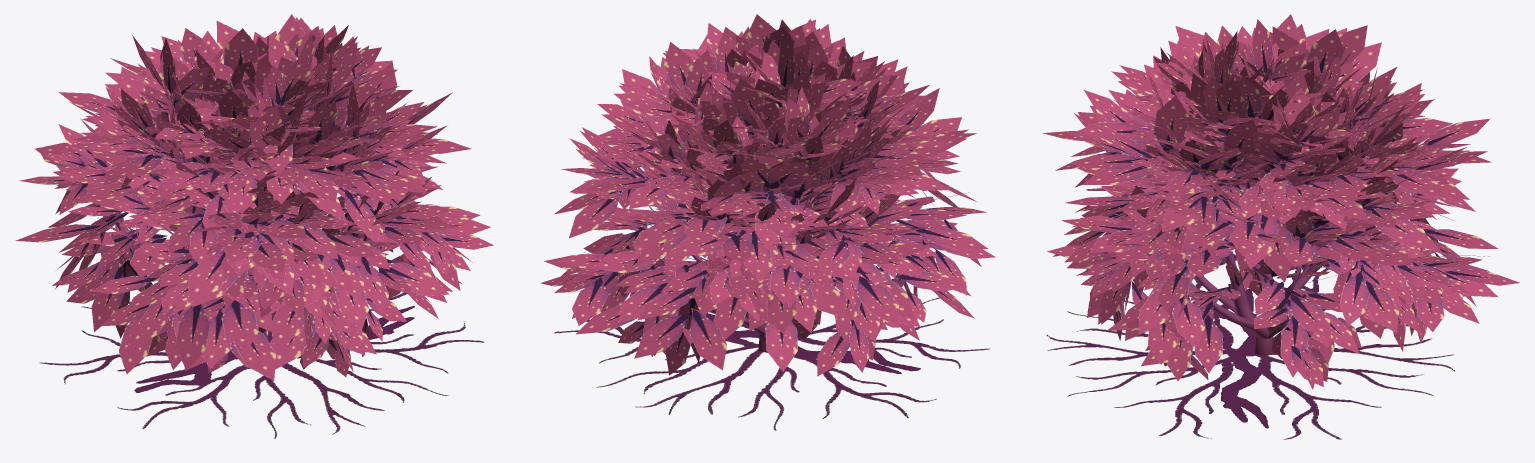
Rendered from GrowBush.fbx.
3 views of the same model, side by side, from view 1: azimuth 30°, elevation 25°; view 2: azimuth 150°, elevation 25°; view 3: azimuth 270°, elevation 25° (orthographic). The views are drawn at different scales.
Visible parts, largest first — view 1: Plane.007; view 2: Plane.007; view 3: Plane.007.
Boxes of the visible parts, x1,y1,x2,y2 form: Plane.007: (15,14,493,438); Plane.007: (540,14,995,430); Plane.007: (1042,14,1519,439).
Bounding box in the file's own units: 884 × 702 × 933.
